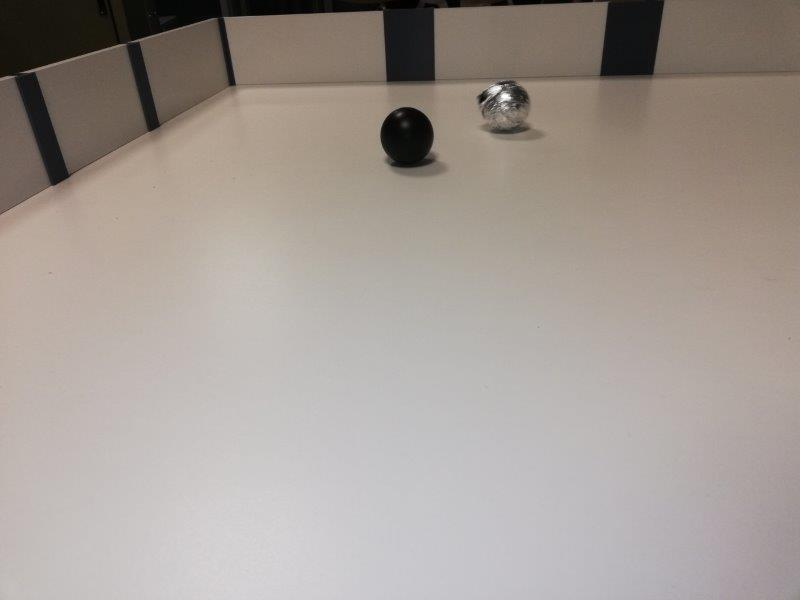bianca: (478, 79, 529, 133)
nera: (380, 108, 434, 164)
